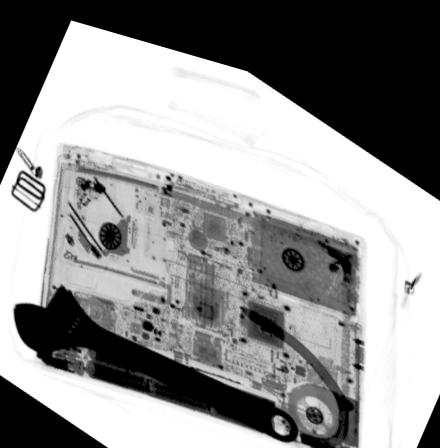Wrench: (12, 279, 301, 427)
